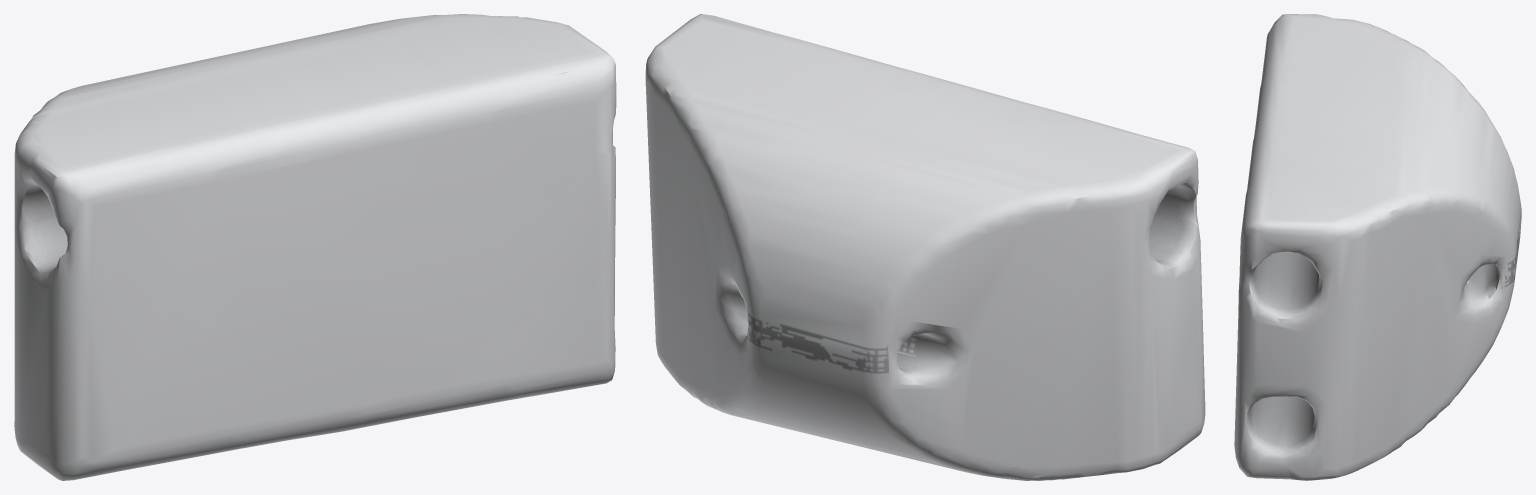
Rendered from right_thomb_midle.obj.
3 views of the same model, side by side, from view 1: azimuth 30°, elevation 25°; view 2: azimuth 150°, elevation 25°; view 3: azimuth 270°, elevation 25° (orthographic). The views are drawn at different scales.
Parts seen in each view (by area): view 1: right_thomb_midle; view 2: right_thomb_midle; view 3: right_thomb_midle.
Boxes of the visible parts, x1,y1,x2,y2 form: right_thomb_midle: (14, 14, 616, 480); right_thomb_midle: (645, 14, 1205, 480); right_thomb_midle: (1234, 14, 1521, 480).
Size of the model in its own units: 0.0254 by 0.0143 by 0.0142.
Materials: 1 (1 with a texture image).
